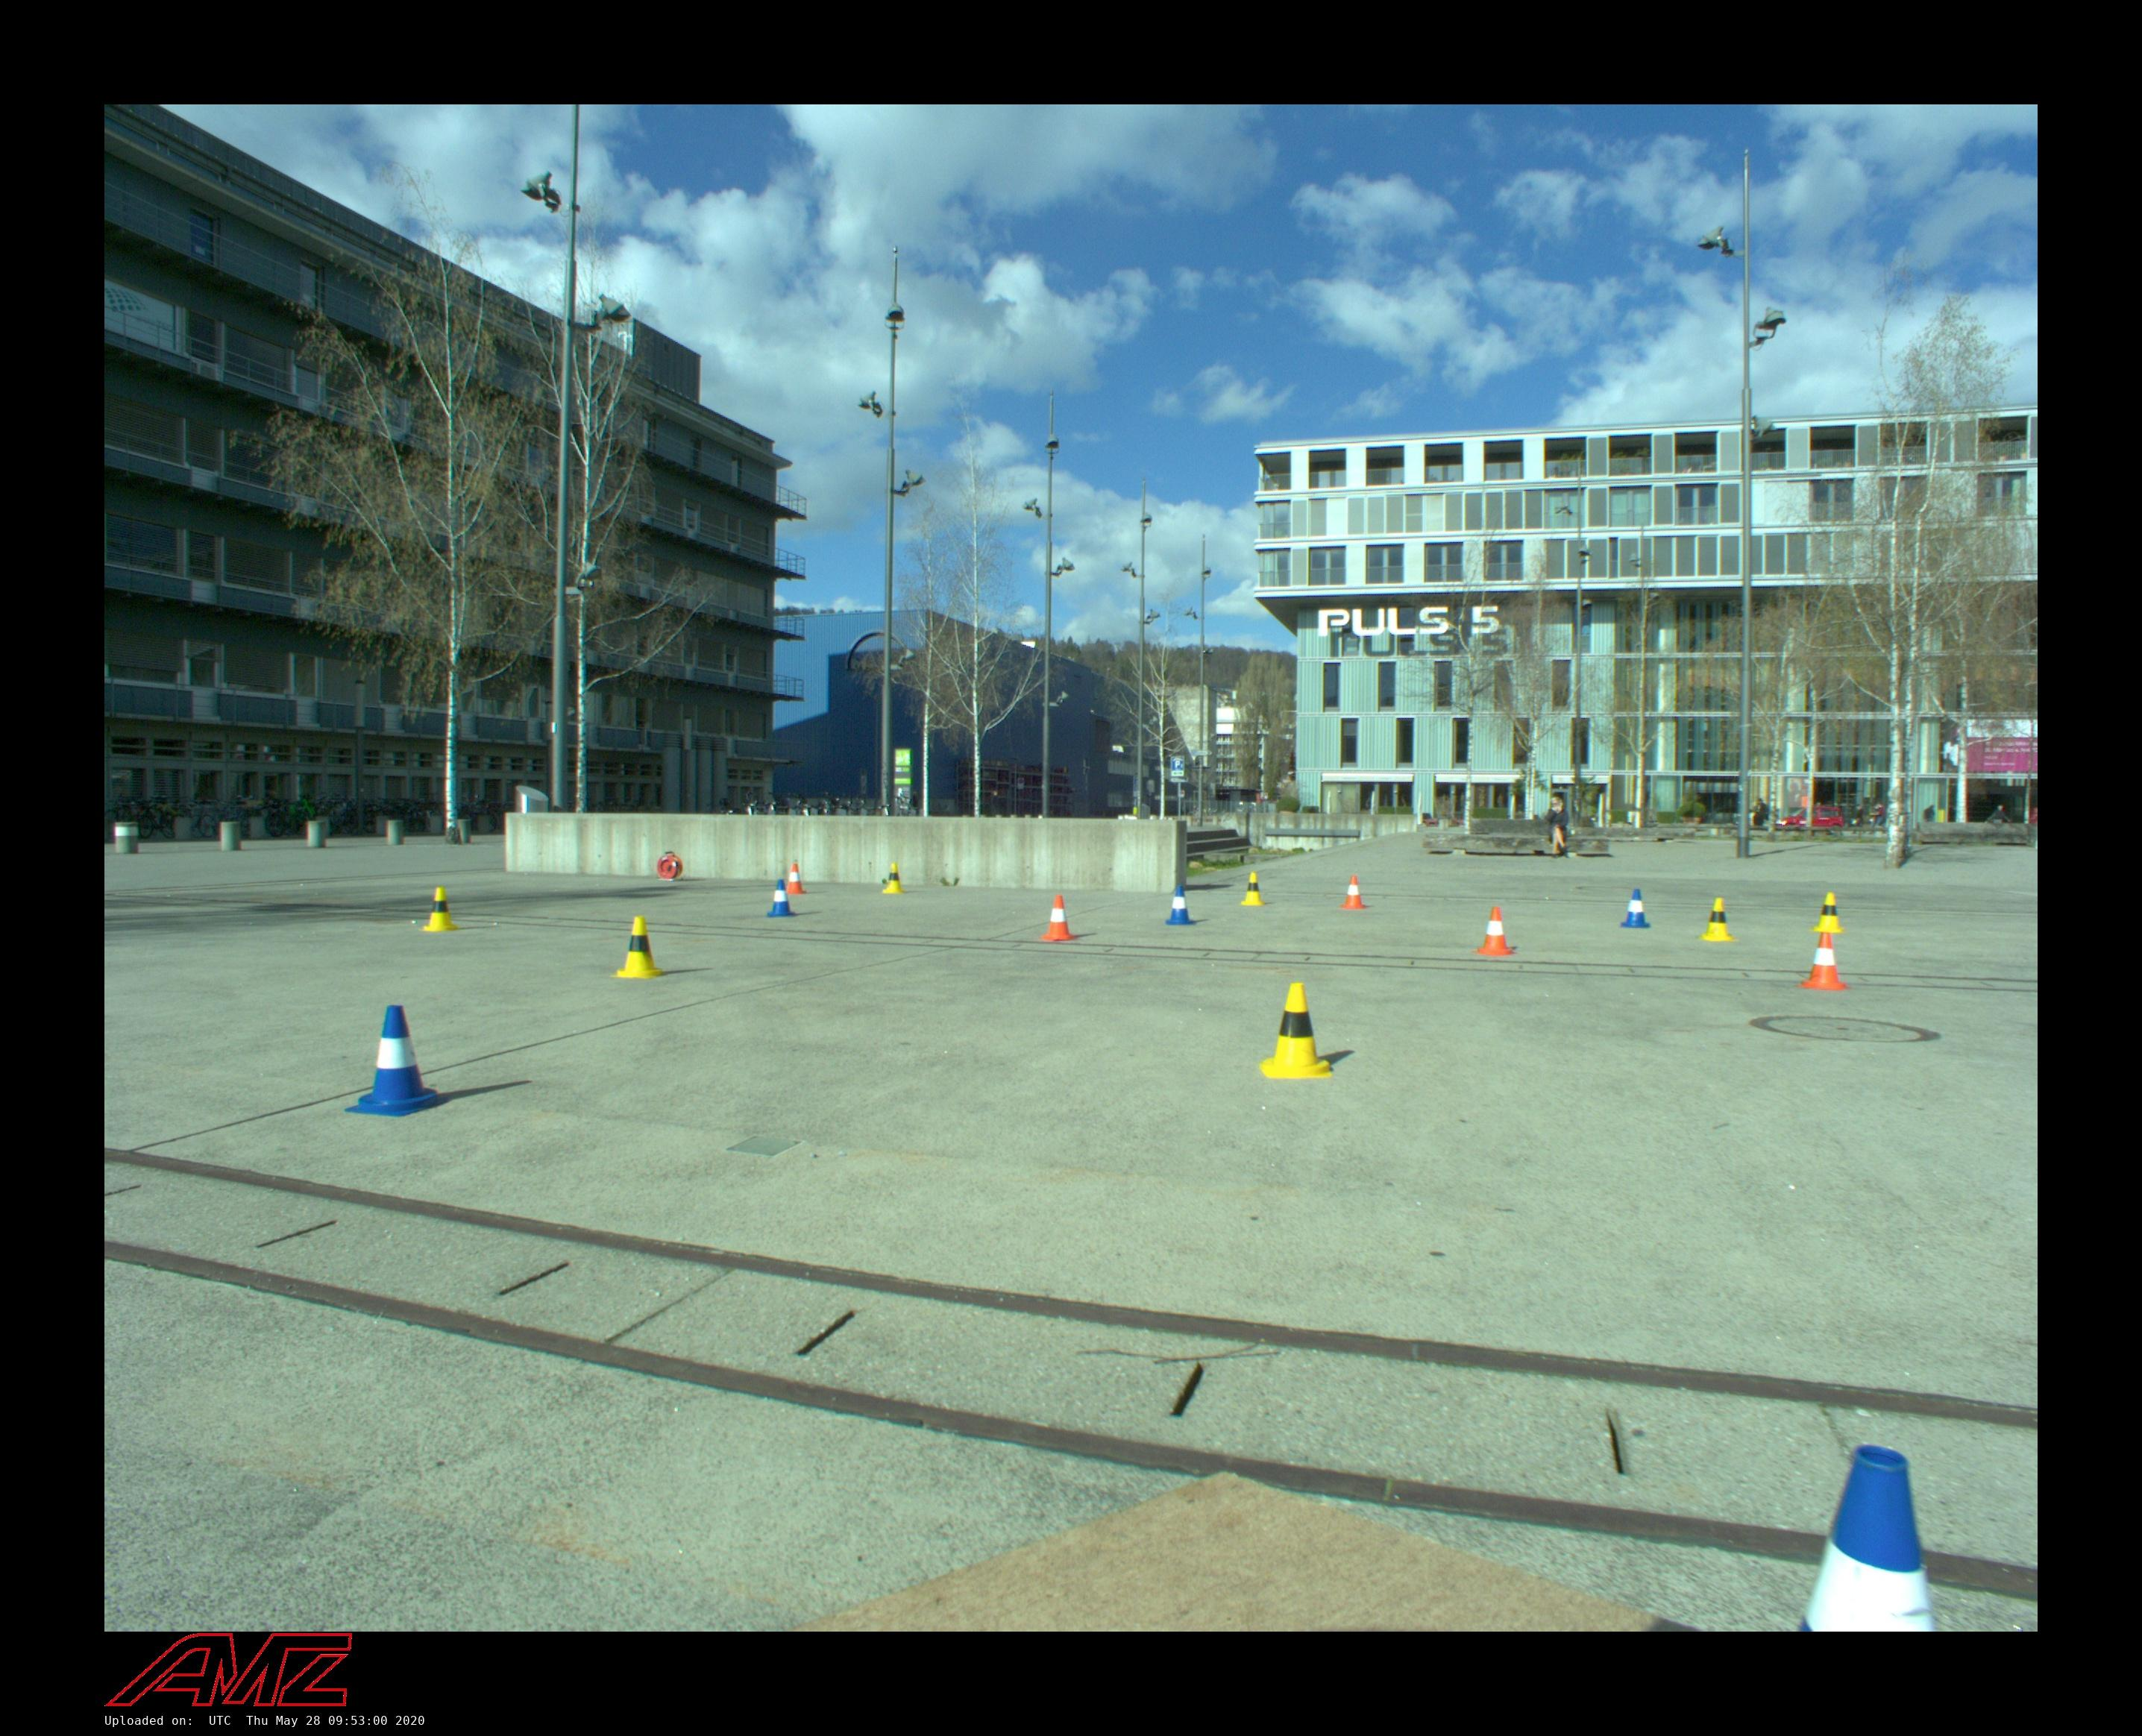blue_cone: (344, 1004, 448, 1116), (1619, 889, 1651, 928), (767, 879, 795, 918), (1166, 886, 1194, 925)
orange_cone: (1798, 932, 1850, 990), (1476, 907, 1515, 957), (1044, 895, 1075, 941), (1341, 875, 1366, 909), (785, 864, 806, 895)
yellow_cone: (1260, 983, 1332, 1079), (613, 916, 664, 978), (1699, 896, 1736, 941), (422, 887, 457, 932), (1812, 891, 1844, 934), (1240, 872, 1265, 905), (882, 863, 904, 893)
